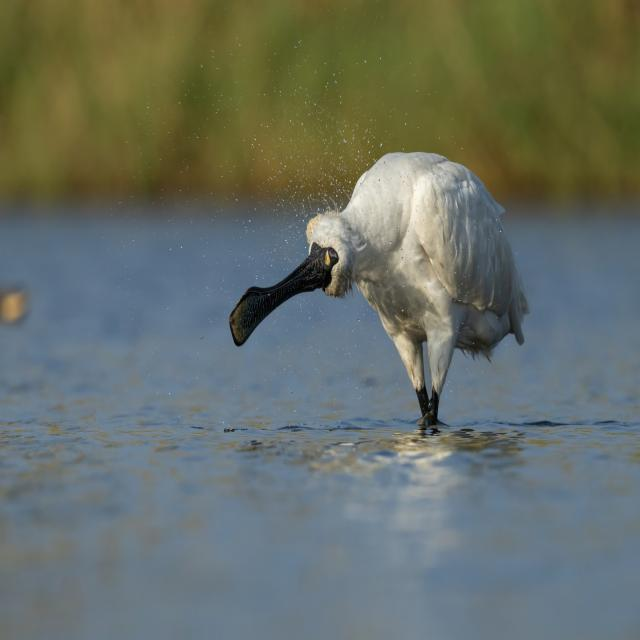Black-faced spoonbill: (230, 153, 528, 425)
